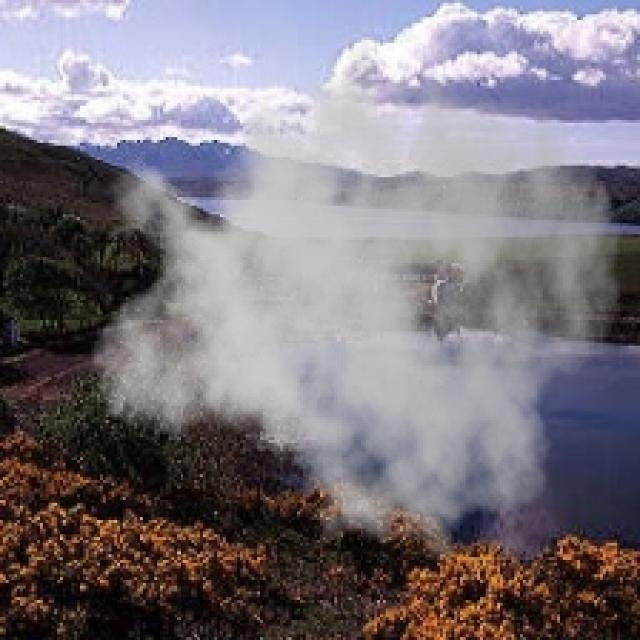Smoke: (88, 12, 623, 574)
